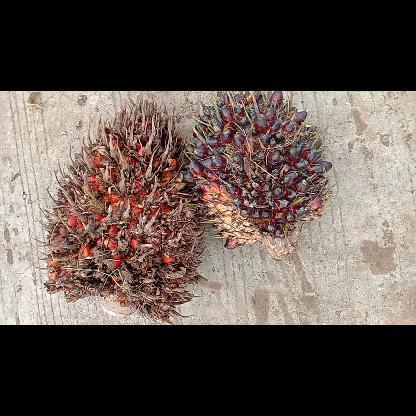TBS mentah: (182, 90, 332, 260)
Terlalu masak: (38, 94, 204, 324)
